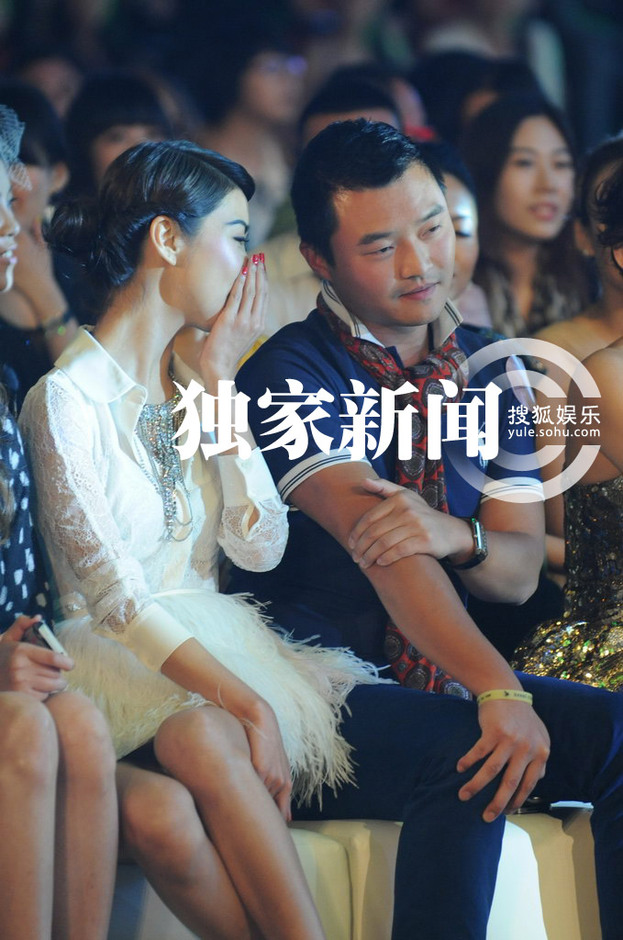face: (352, 154, 456, 323), (178, 184, 254, 337), (498, 119, 574, 240), (1, 180, 44, 292)
